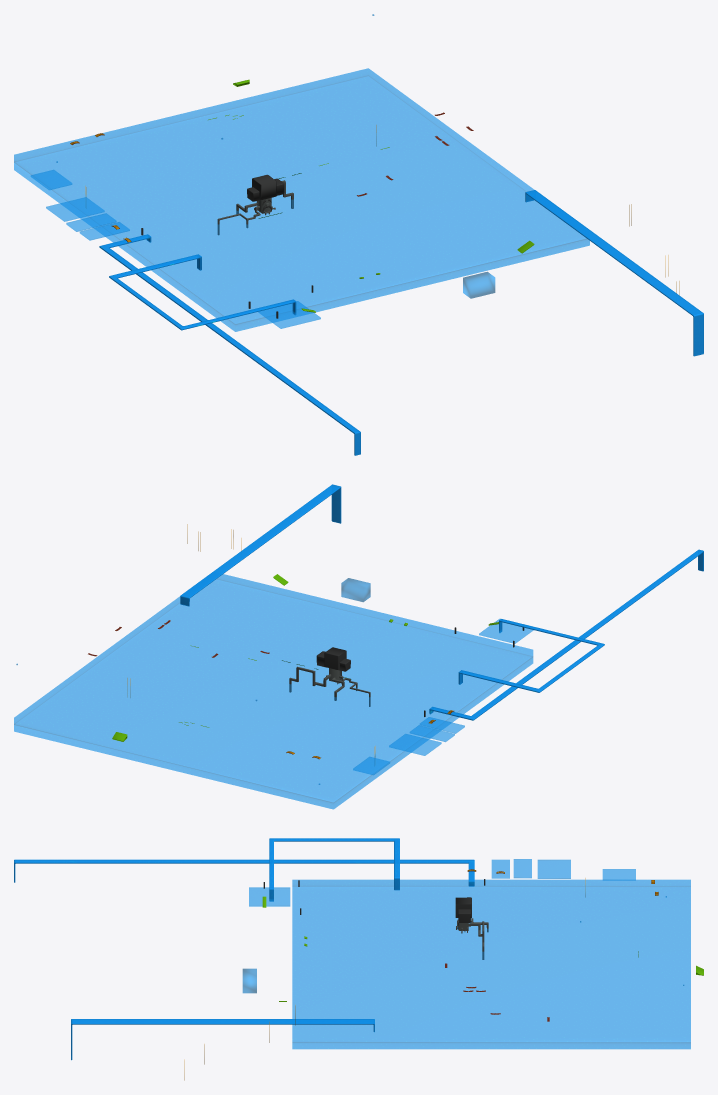
Rendered from Level3LowCombined2.fbx.
The picture shows the model from 3 angles, top to bottom: view 1: azimuth 30°, elevation 25°; view 2: azimuth 150°, elevation 25°; view 3: azimuth 270°, elevation 25°; orthographic projection. The views are drawn at different scales.
Visible parts, largest first — view 1: WaterStill33, WaterRiver28, WaterRiver27, WaterRiver30, WoodleFather46, WaterStill34, WaterStill38, WaterStill35; view 2: WaterStill33, WaterRiver28, WaterRiver27, WoodleFather46, WaterRiver30, WaterStill38, WaterStill34, WaterStill35; view 3: WaterStill33, WaterRiver27, WaterRiver28, WaterRiver30, WoodleFather46, WaterStill34, WaterStill38, WaterStill39.
Boxes of the visible parts, bbox=[...] form: WaterStill33: bbox=[14, 68, 589, 331]; WaterRiver28: bbox=[525, 190, 703, 356]; WaterRiver27: bbox=[99, 234, 360, 455]; WaterRiver30: bbox=[109, 254, 296, 330]; WoodleFather46: bbox=[217, 174, 293, 235]; WaterStill34: bbox=[258, 301, 320, 328]; WaterStill38: bbox=[46, 197, 104, 221]; WaterStill35: bbox=[463, 272, 495, 298]; WaterStill33: bbox=[14, 574, 533, 809]; WaterRiver28: bbox=[180, 484, 341, 606]; WaterRiver27: bbox=[429, 549, 703, 720]; WoodleFather46: bbox=[289, 647, 370, 706]; WaterRiver30: bbox=[458, 619, 604, 692]; WaterStill38: bbox=[389, 734, 441, 755]; WaterStill34: bbox=[479, 618, 533, 643]; WaterStill35: bbox=[341, 578, 370, 601]; WaterStill33: bbox=[292, 879, 690, 1049]; WaterRiver27: bbox=[14, 859, 474, 886]; WaterRiver28: bbox=[71, 1019, 374, 1060]; WaterRiver30: bbox=[269, 838, 399, 901]; WoodleFather46: bbox=[455, 897, 488, 959]; WaterStill34: bbox=[249, 887, 290, 906]; WaterStill38: bbox=[537, 859, 570, 878]; WaterStill39: bbox=[602, 869, 635, 880].
Size of what is drawn, in the model's own units: 384 by 74.94 by 565.
